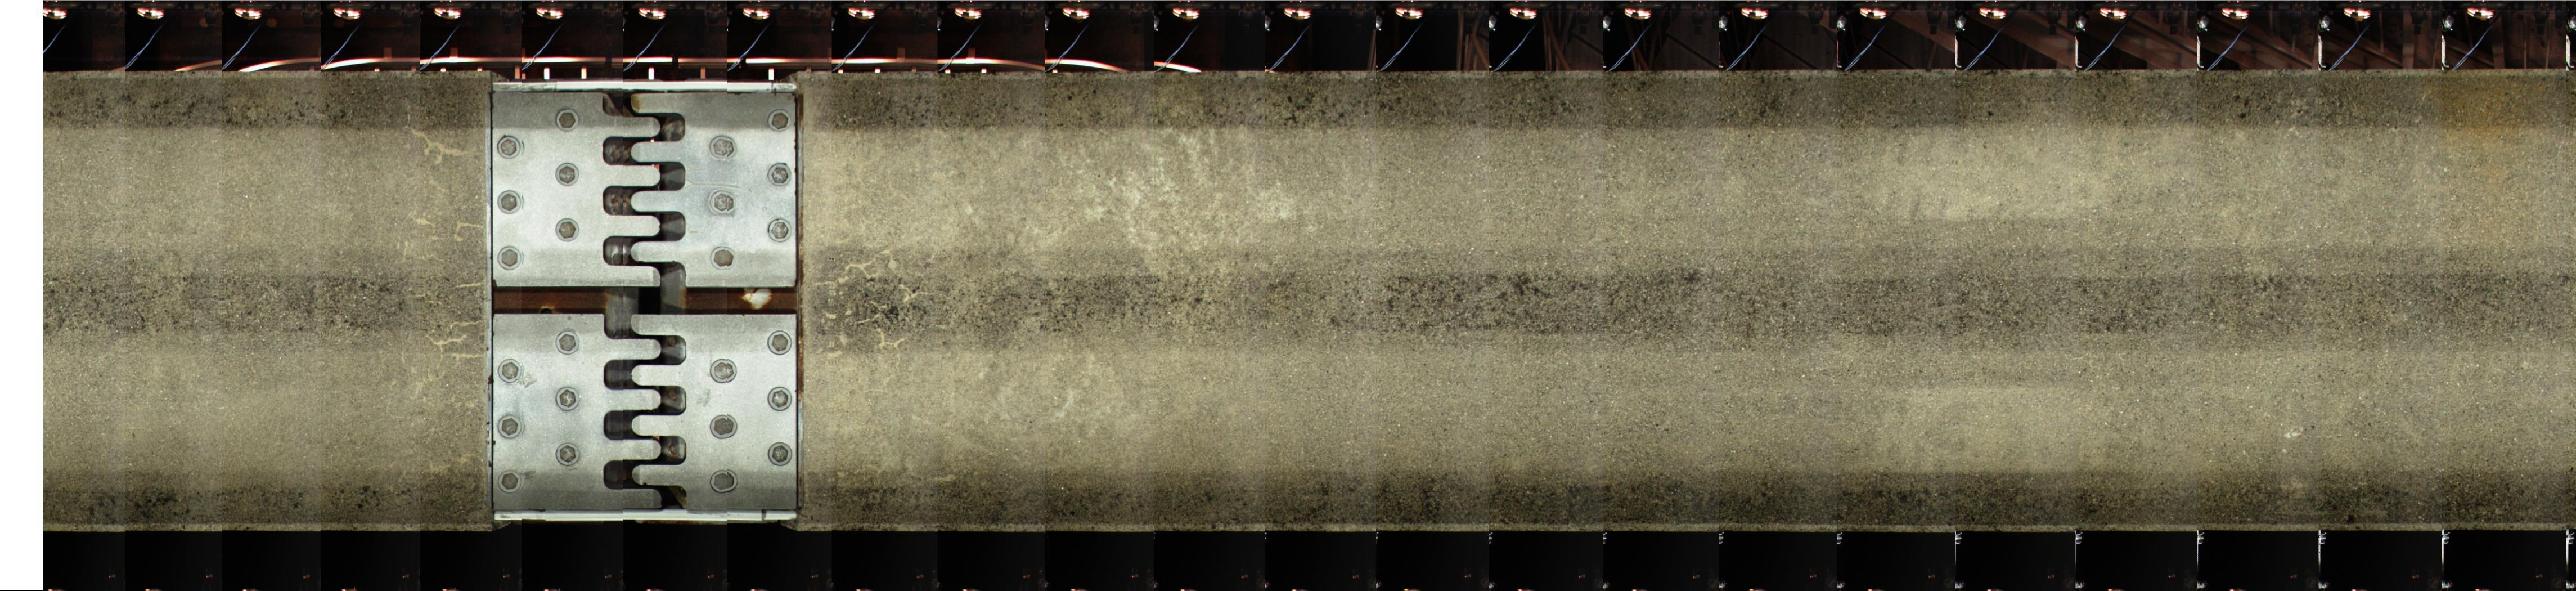concrete: (795, 74, 2571, 532), (41, 76, 485, 530)
